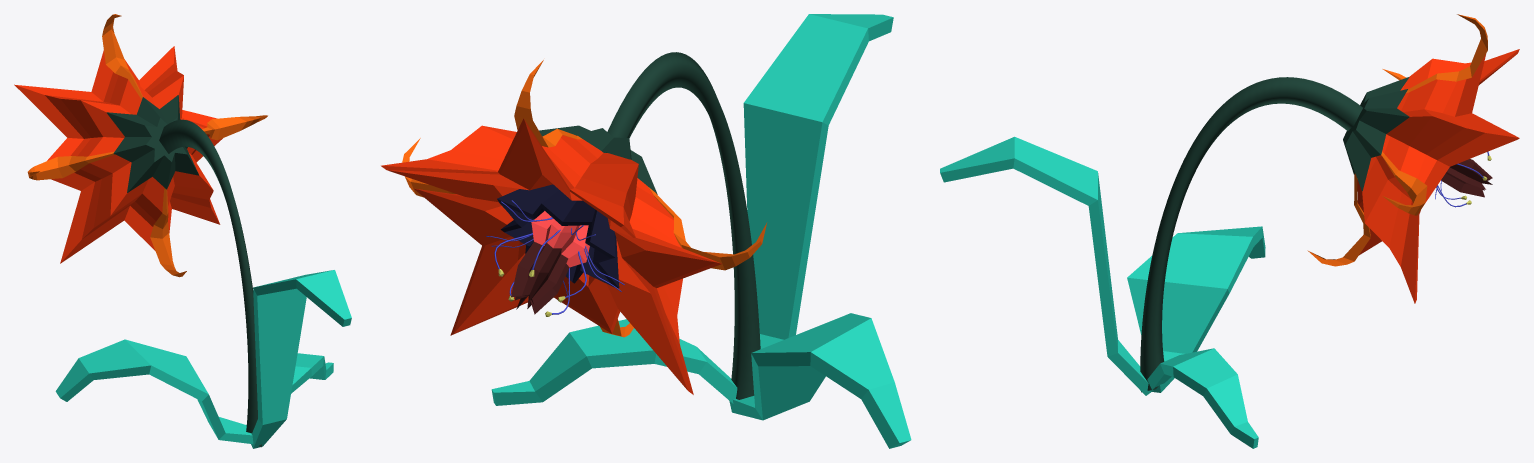
Rendered from st1_flower3.fbx.
The picture shows the model from 3 angles, left to right: view 1: azimuth 30°, elevation 25°; view 2: azimuth 150°, elevation 25°; view 3: azimuth 270°, elevation 25°; orthographic projection. The views are drawn at different scales.
Visible parts, largest first — view 1: 3_stem; view 2: 3_stem; view 3: 3_stem.
Boxes of the visible parts, <box> form: 3_stem: <box>14,14,351,448</box>; 3_stem: <box>381,14,911,448</box>; 3_stem: <box>940,14,1519,448</box>.
Size of the model in its own units: 827 by 954 by 1322.
